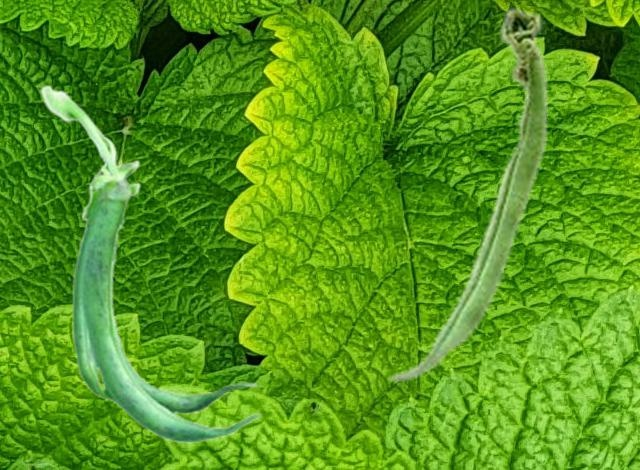french_bean: (39, 84, 260, 443), (387, 5, 548, 383)
